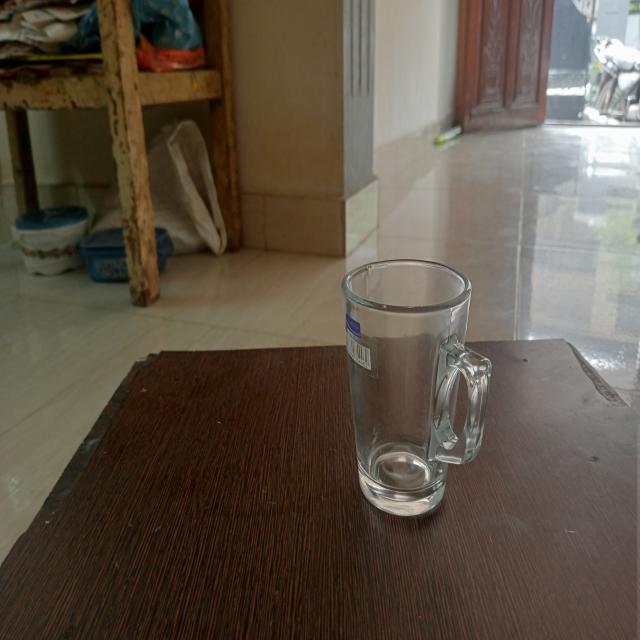glass-VX4N: (342, 257, 491, 520)
